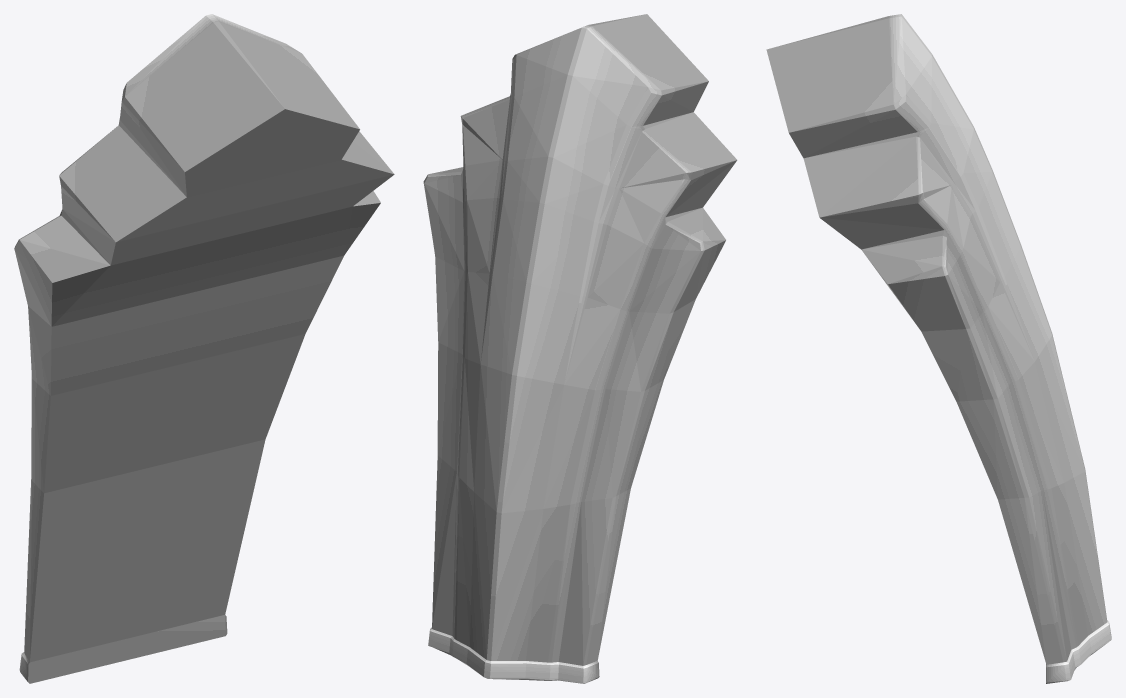
The model's file is CharSkyNPC_Horn_SkinnyIntellectualCrown.glb.
3 renders of one model, left to right at view 1: azimuth 30°, elevation 25°; view 2: azimuth 150°, elevation 25°; view 3: azimuth 270°, elevation 25°, orthographic. The views are drawn at different scales.
Parts seen in each view (by area): view 1: CharSkyNPC_Horn_SkinnyIntellectualCrown; view 2: CharSkyNPC_Horn_SkinnyIntellectualCrown; view 3: CharSkyNPC_Horn_SkinnyIntellectualCrown.
Boxes of the visible parts, x1,y1,x2,y2 form: CharSkyNPC_Horn_SkinnyIntellectualCrown: (14,14,394,683); CharSkyNPC_Horn_SkinnyIntellectualCrown: (423,14,737,683); CharSkyNPC_Horn_SkinnyIntellectualCrown: (766,14,1111,683).
Size of the model in its own units: 2.7 by 5.33 by 2.66.
1 material, 1 textured.
